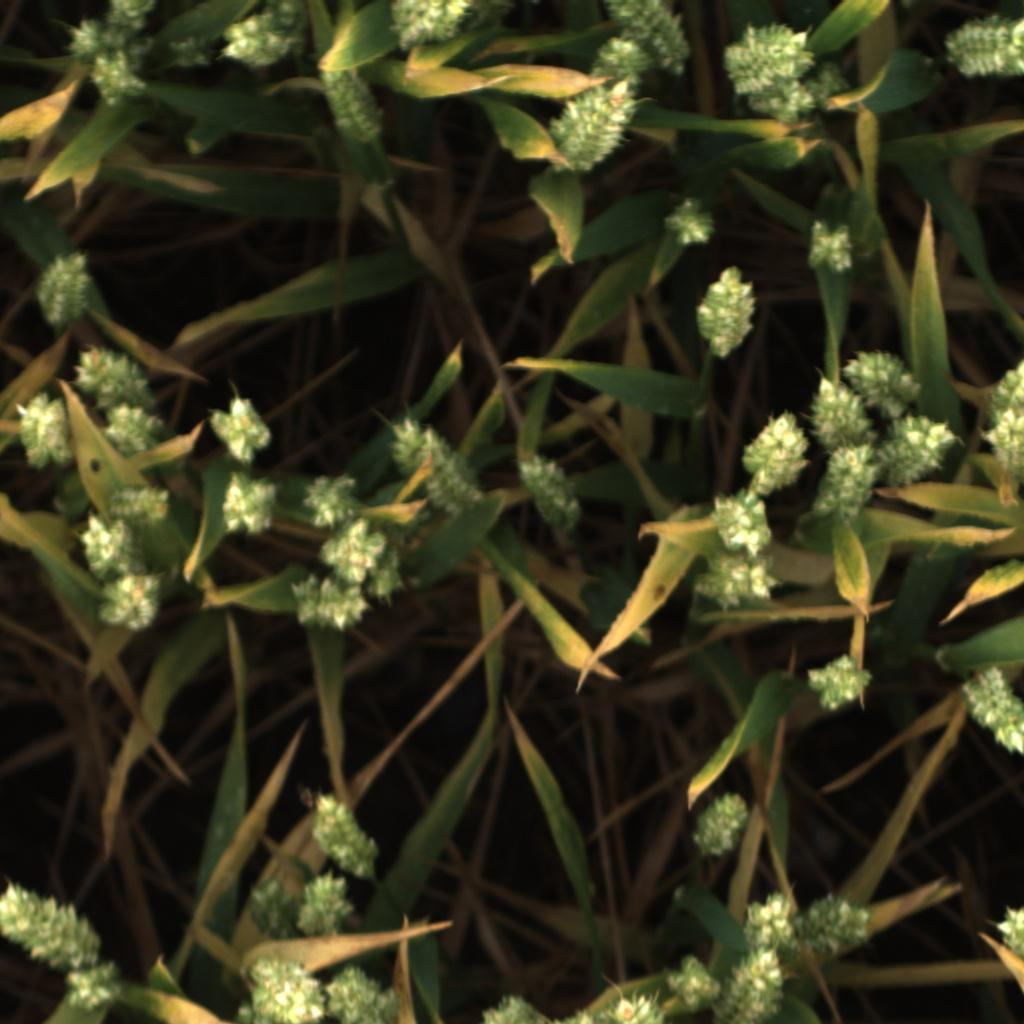0-0: (390, 415, 489, 517), (0, 880, 104, 973), (548, 81, 642, 174), (720, 20, 821, 96), (806, 438, 890, 529), (688, 264, 761, 367), (510, 447, 592, 538), (311, 61, 392, 151), (736, 406, 811, 500), (307, 790, 379, 885), (605, 0, 693, 77), (695, 549, 791, 619), (712, 943, 794, 1024), (802, 368, 878, 454), (792, 890, 878, 966), (879, 410, 957, 492), (957, 663, 1023, 758), (841, 346, 925, 419), (70, 341, 155, 413), (941, 11, 1024, 84), (243, 953, 324, 1024), (14, 390, 81, 475), (287, 572, 373, 635), (33, 249, 97, 330), (733, 883, 804, 956), (72, 511, 147, 579), (703, 487, 778, 555), (315, 516, 387, 584), (207, 395, 274, 468), (688, 784, 752, 860), (802, 649, 872, 716), (68, 18, 153, 72), (662, 943, 729, 1011), (216, 11, 292, 70), (95, 568, 165, 632), (294, 869, 356, 941), (216, 471, 281, 539), (390, 0, 472, 53), (801, 218, 867, 283), (244, 878, 305, 945), (659, 192, 723, 255), (369, 479, 435, 539), (324, 961, 386, 1024), (296, 470, 361, 530), (103, 402, 172, 458), (104, 482, 180, 532), (741, 79, 817, 129), (89, 49, 150, 110), (983, 404, 1024, 492), (61, 958, 127, 1012), (605, 985, 690, 1024), (592, 44, 656, 92), (981, 351, 1024, 421), (262, 0, 311, 55), (475, 990, 551, 1024), (361, 541, 404, 600), (803, 63, 855, 107), (991, 900, 1024, 962), (102, 0, 156, 36), (167, 34, 215, 69), (470, 0, 516, 31), (549, 1005, 615, 1024), (375, 988, 406, 1024)
